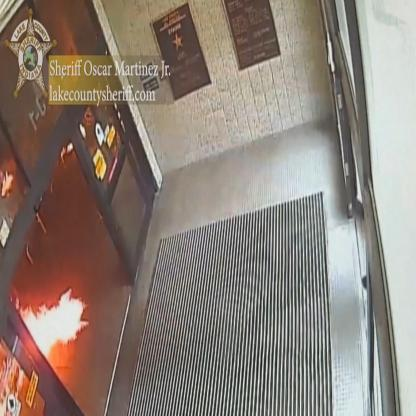fire: (19, 289, 89, 356), (1, 170, 13, 197)
